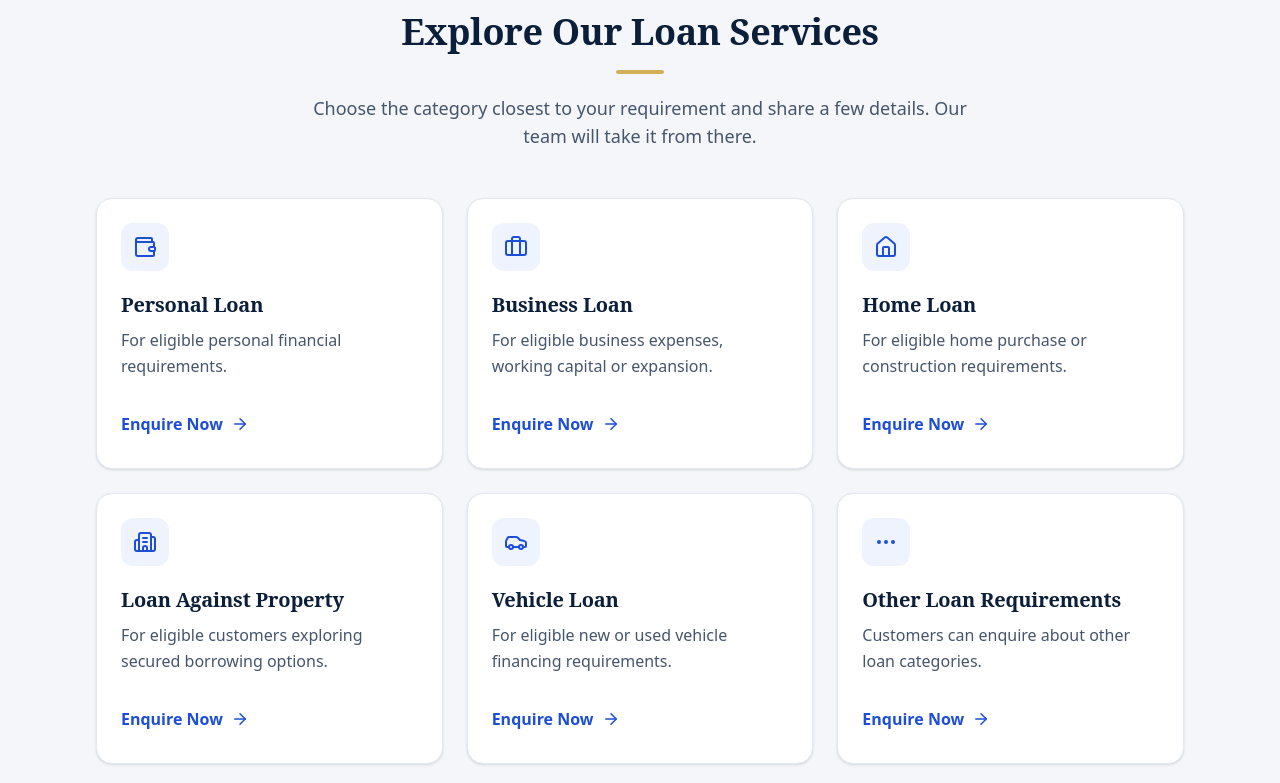
Scenario: Loan category -> form preselection › 'Enquire Now' on Personal Loan preselects the loan type and scrolls to the form
(page scrolled)
What coordinates should you click on to do the following:
click the button "Enquire Now" below "Personal Loan"
I would click on:
 (185, 424)
Its box is [121,404,249,444].
(page scrolled)
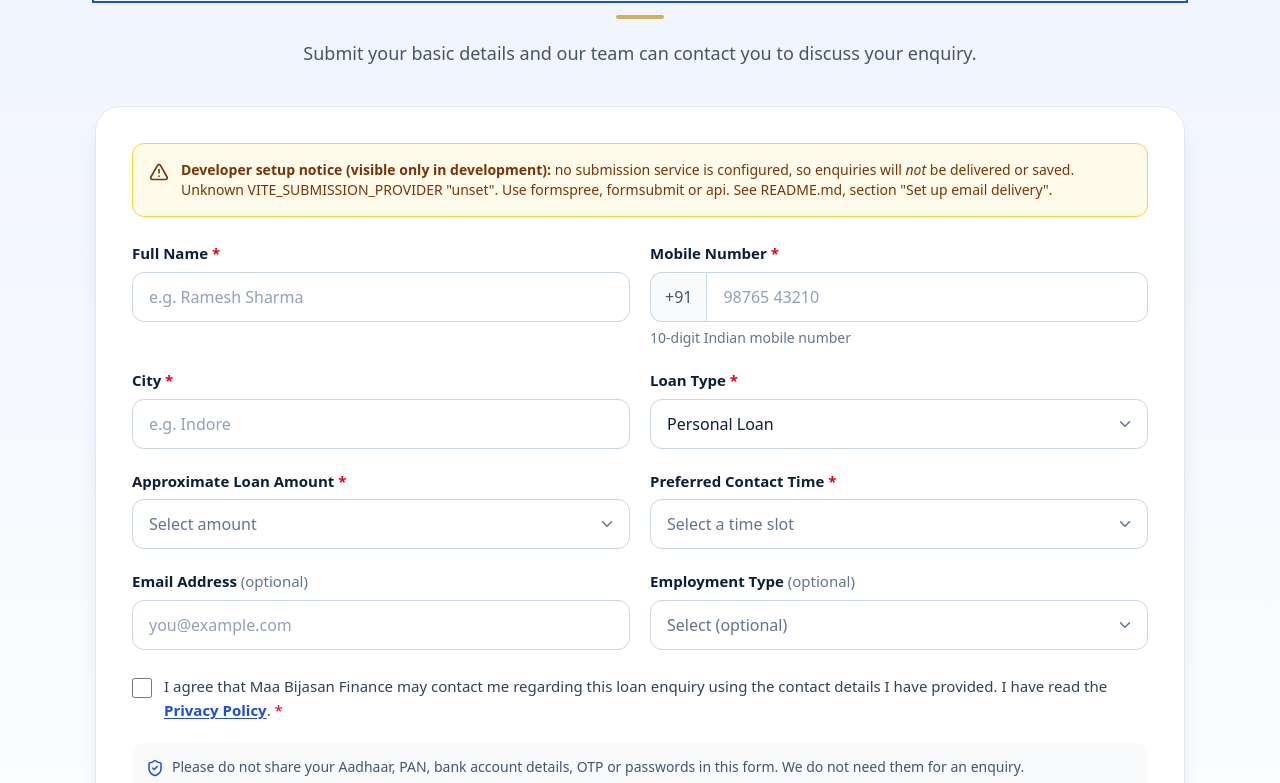
Result: the dropdown labelled "Loan Type *" shows "Personal Loan" at [650,398,1148,448]
